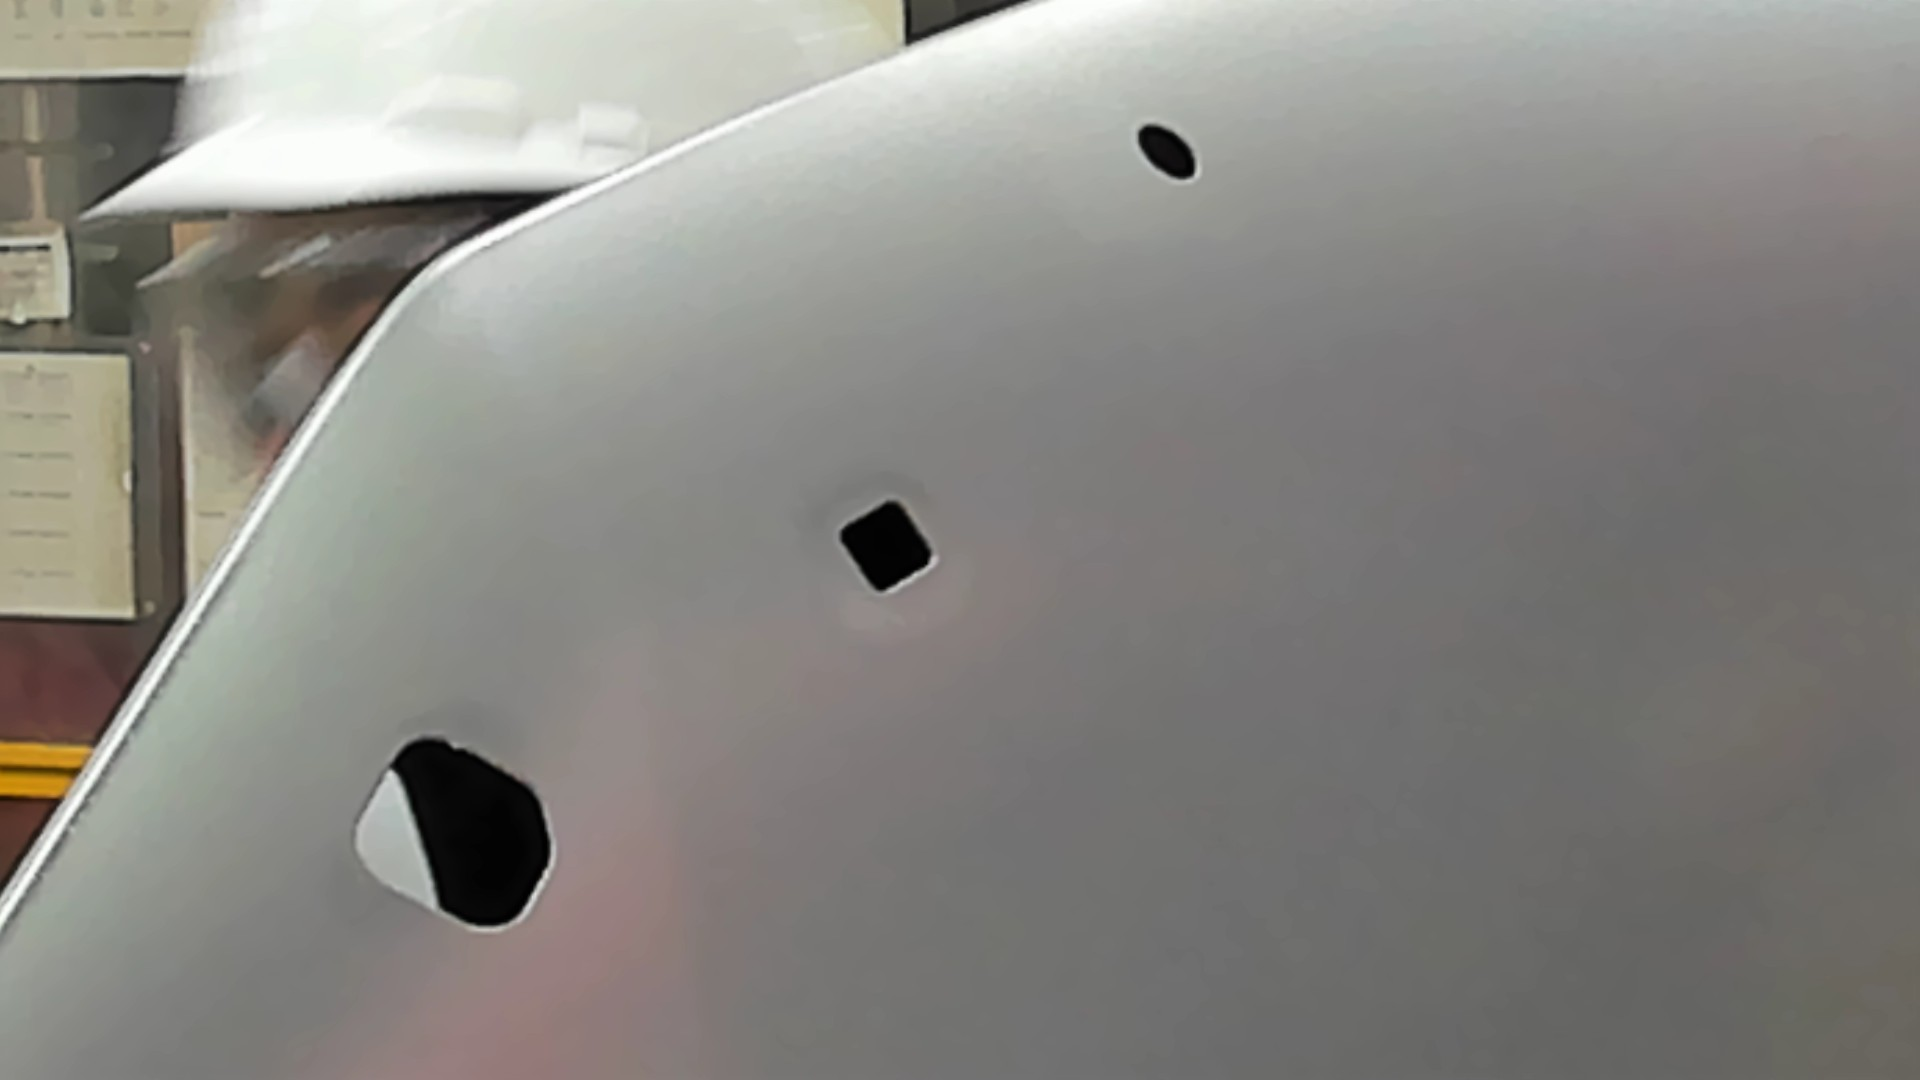chico: (1133, 117, 1200, 186)
grande: (347, 729, 560, 938)
mediano: (832, 492, 942, 601)
